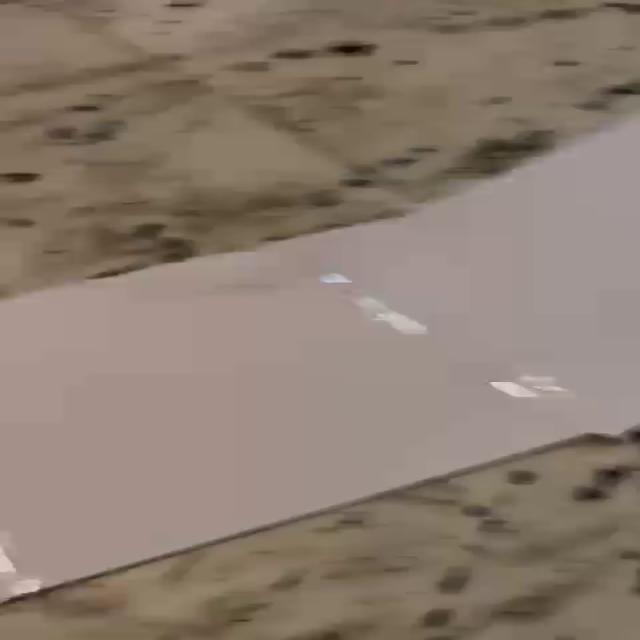road: (1, 122, 637, 598)
